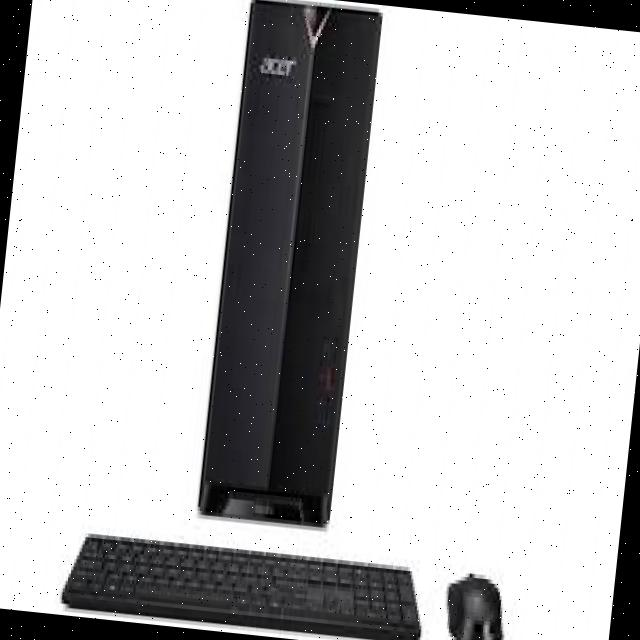Computer: (185, 0, 395, 529)
